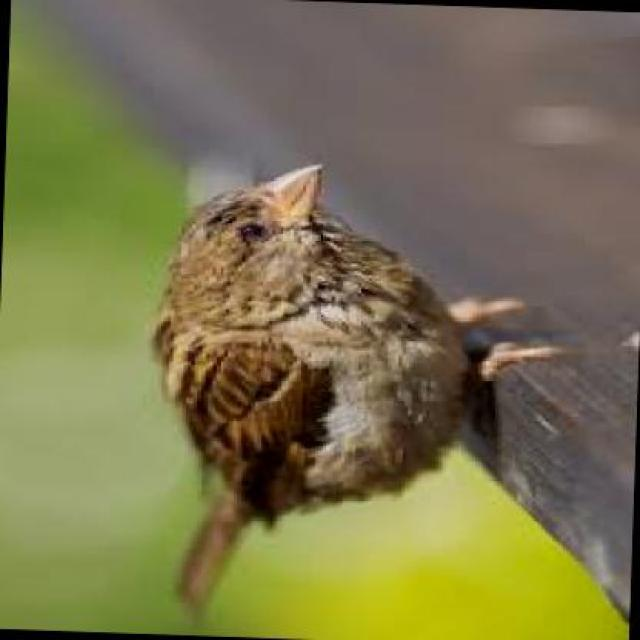Bird: (128, 157, 479, 603)
